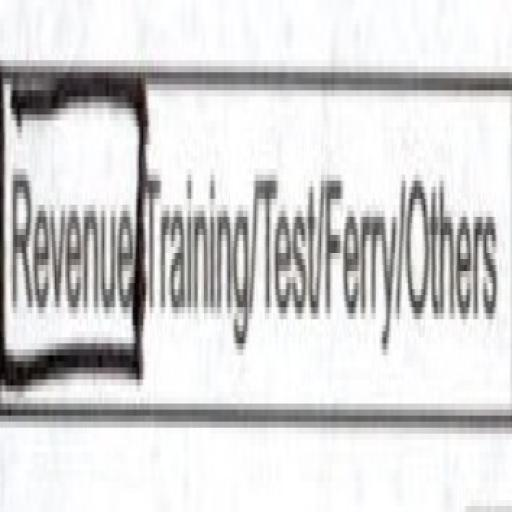check: (0, 0, 146, 468)
